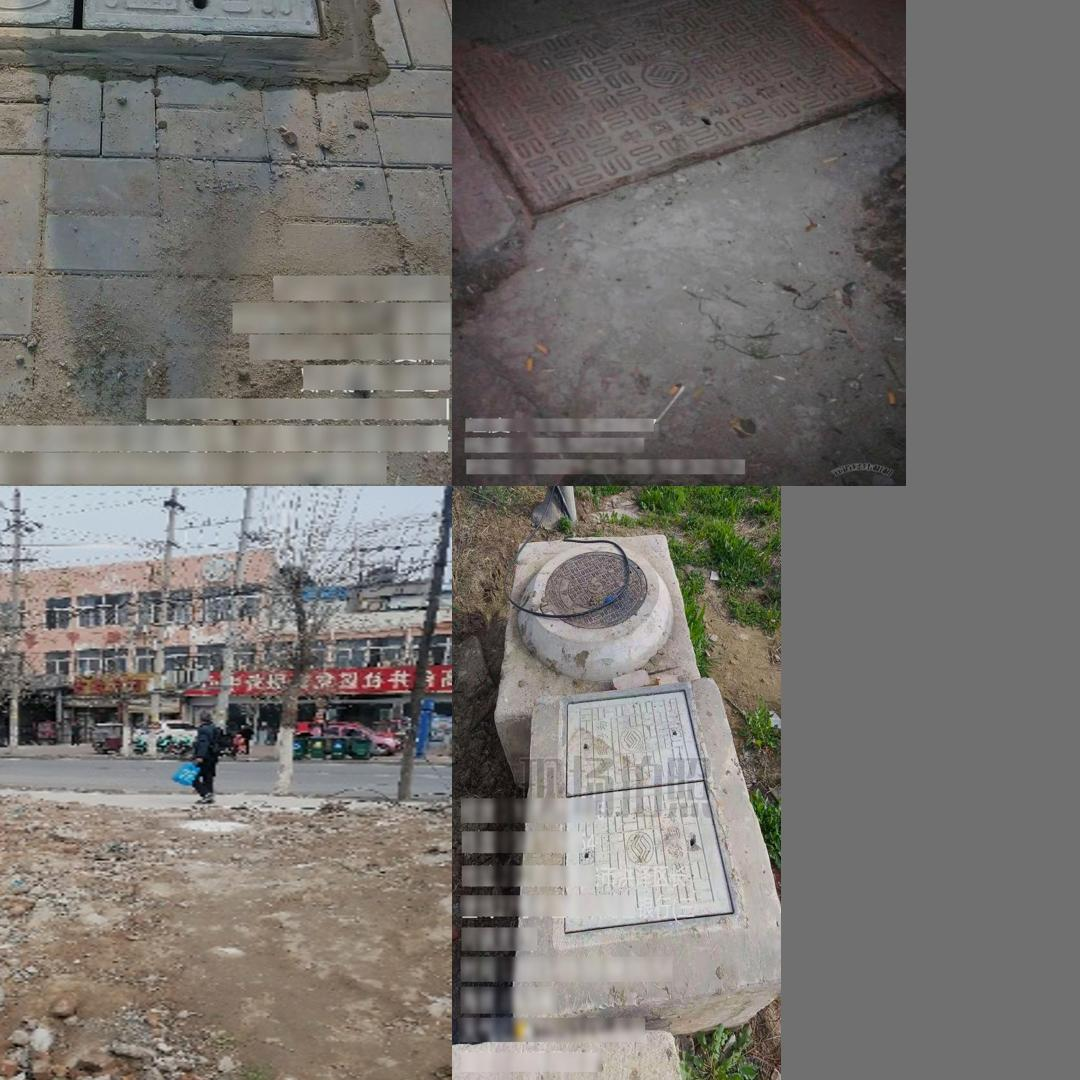good: (452, 0, 906, 222), (558, 682, 745, 941), (0, 0, 338, 40), (538, 551, 646, 629)
